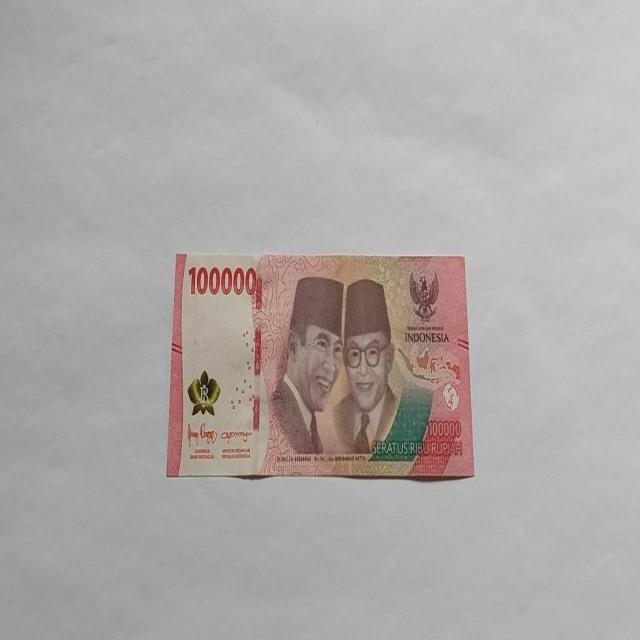Kertas: (166, 251, 475, 481), (187, 263, 257, 298)
